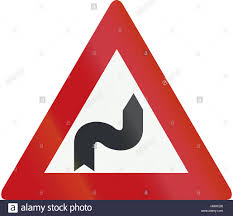Double_bend_right: (2, 1, 231, 200)
